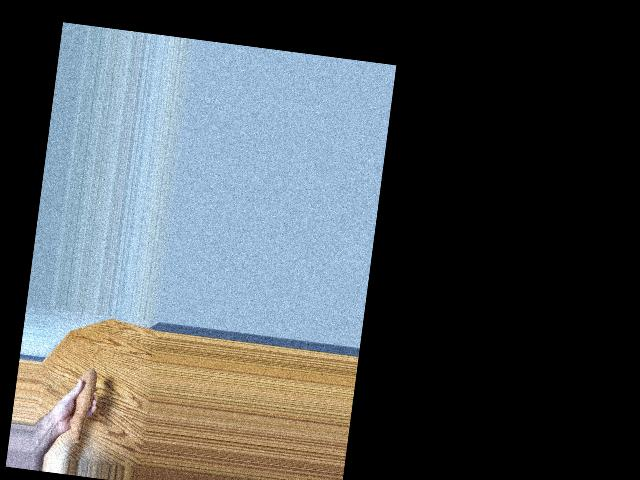sweet_potato: (66, 364, 100, 448)
